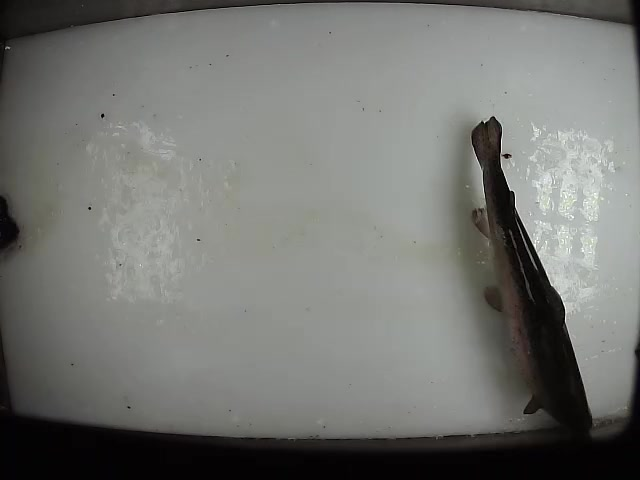fish: (467, 114, 594, 434)
